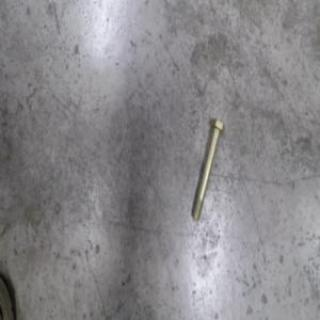Bolttrack_idkeyframe: (188, 117, 224, 222)
